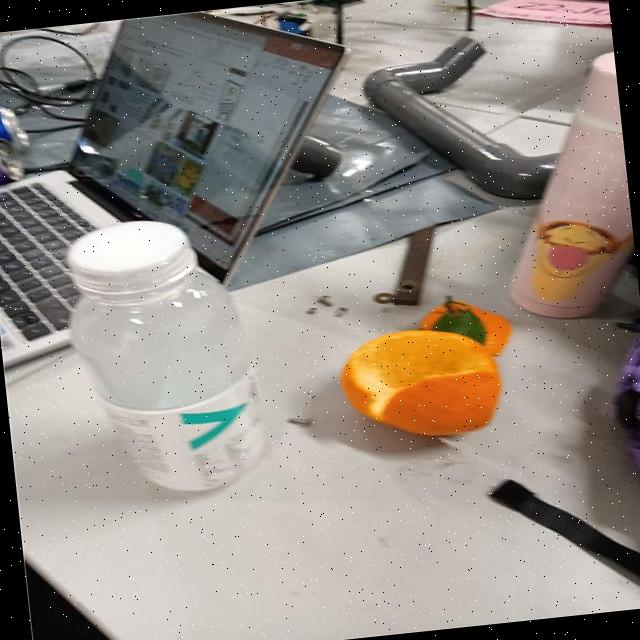orange-peel: (334, 317, 506, 446)
